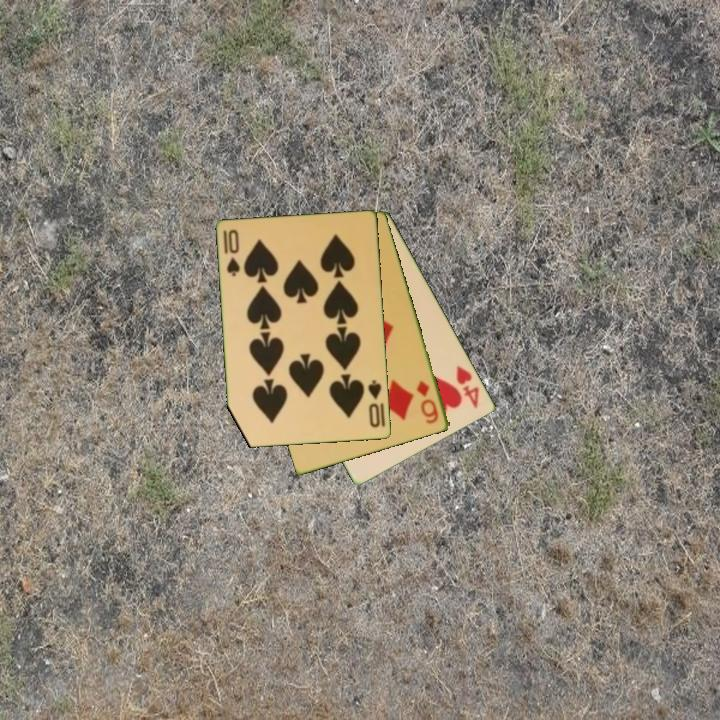10s: (220, 226, 243, 280), (365, 377, 385, 431)
4h: (453, 362, 483, 411)
6d: (413, 377, 442, 427)
